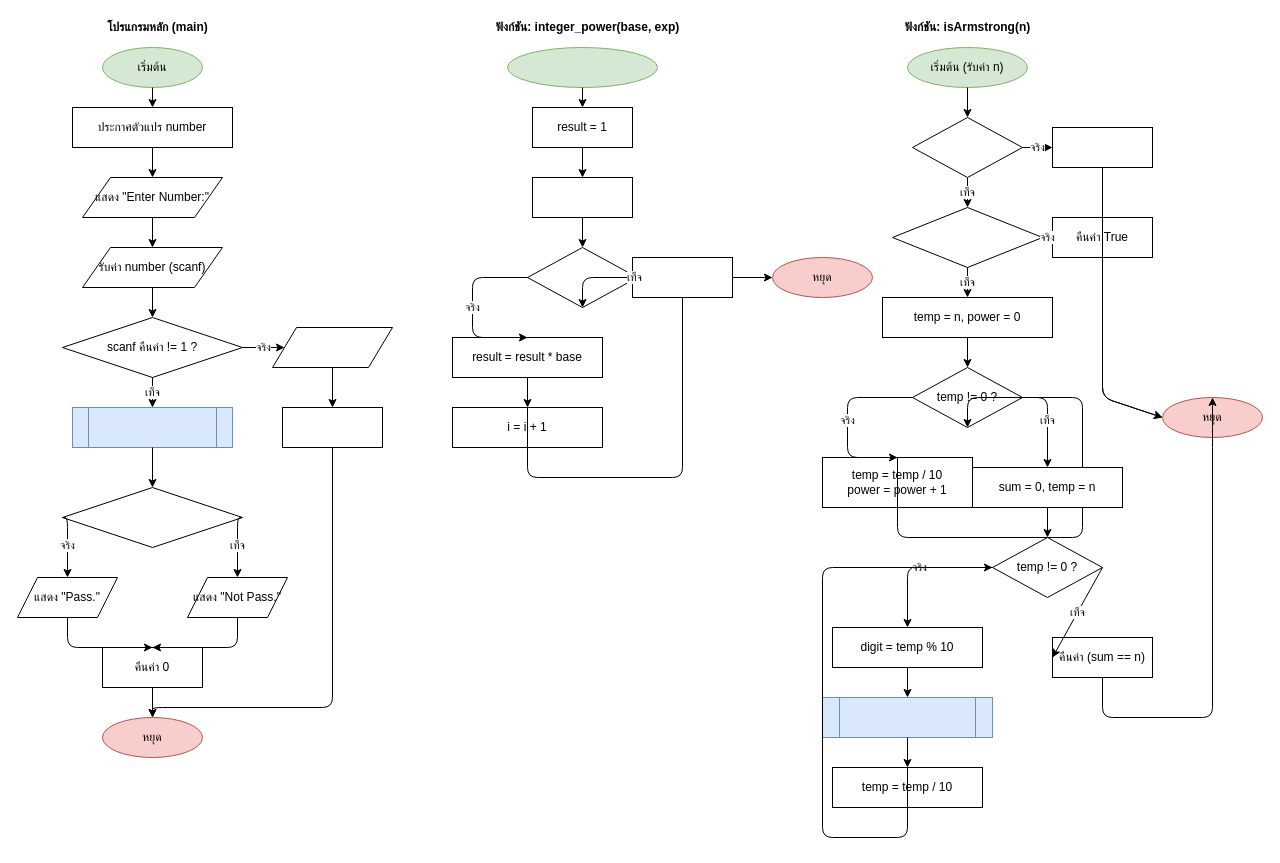
Some shapes in this 1280 by 863 pixel diagram are drawn without their labels. Here are the shapes that lost their labels. From the top down, the centre of each, then its label:
point (582, 67): เริ่มต้น (รับค่า base, exp)
point (967, 147): n < 0 ?
point (1102, 147): คืนค่า False
point (582, 197): i = 0
point (967, 237): n >= 0 และ n < 10 ?
point (582, 277): i < exp ?
point (682, 277): คืนค่า result
point (332, 347): แสดง "Invalid Input."
point (152, 427): เรียกใช้ isArmstrong(number)
point (332, 427): คืนค่า 1
point (152, 517): ผลลัพธ์จาก isArmstrong เป็น True ?
point (907, 717): sum += integer_power(digit, power)
